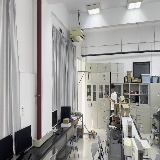fire: (89, 119, 94, 133)
